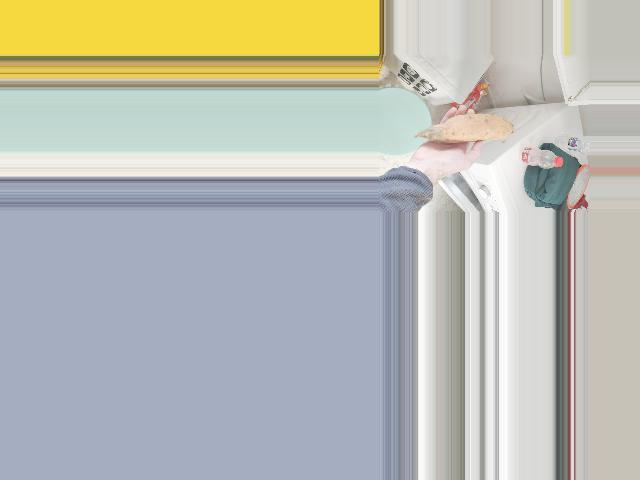sweet_potato: (418, 114, 514, 144)
